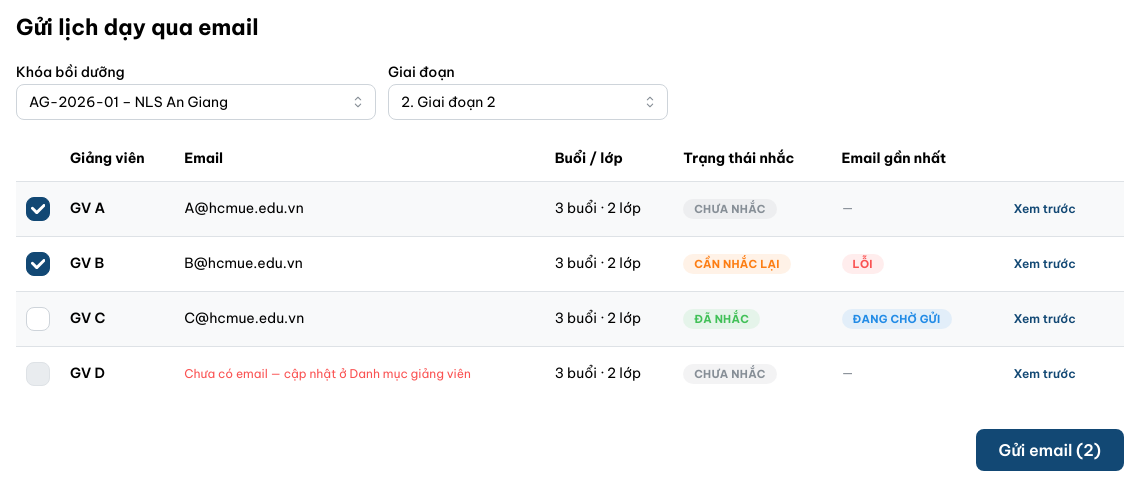
Test: Gửi lịch dạy (ADR 0009) › đổi giai đoạn → tải danh sách mới; rỗng → thông báo chưa phân công
Expected: the text "GV A" is shown, [70,199,105,217]
Select "1. Giai đoạn 1" in the dropdown labelled "Giai đoạn" at (528, 102), box [388,84,668,120]
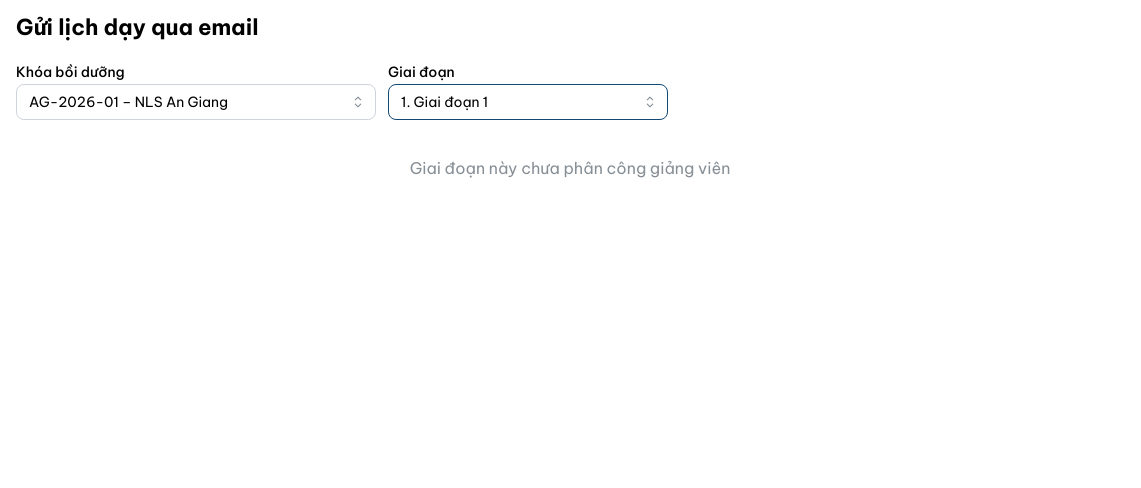
Result: the text "Giai đoạn này chưa phân công giảng viên" is shown at [410,158,730,178]
